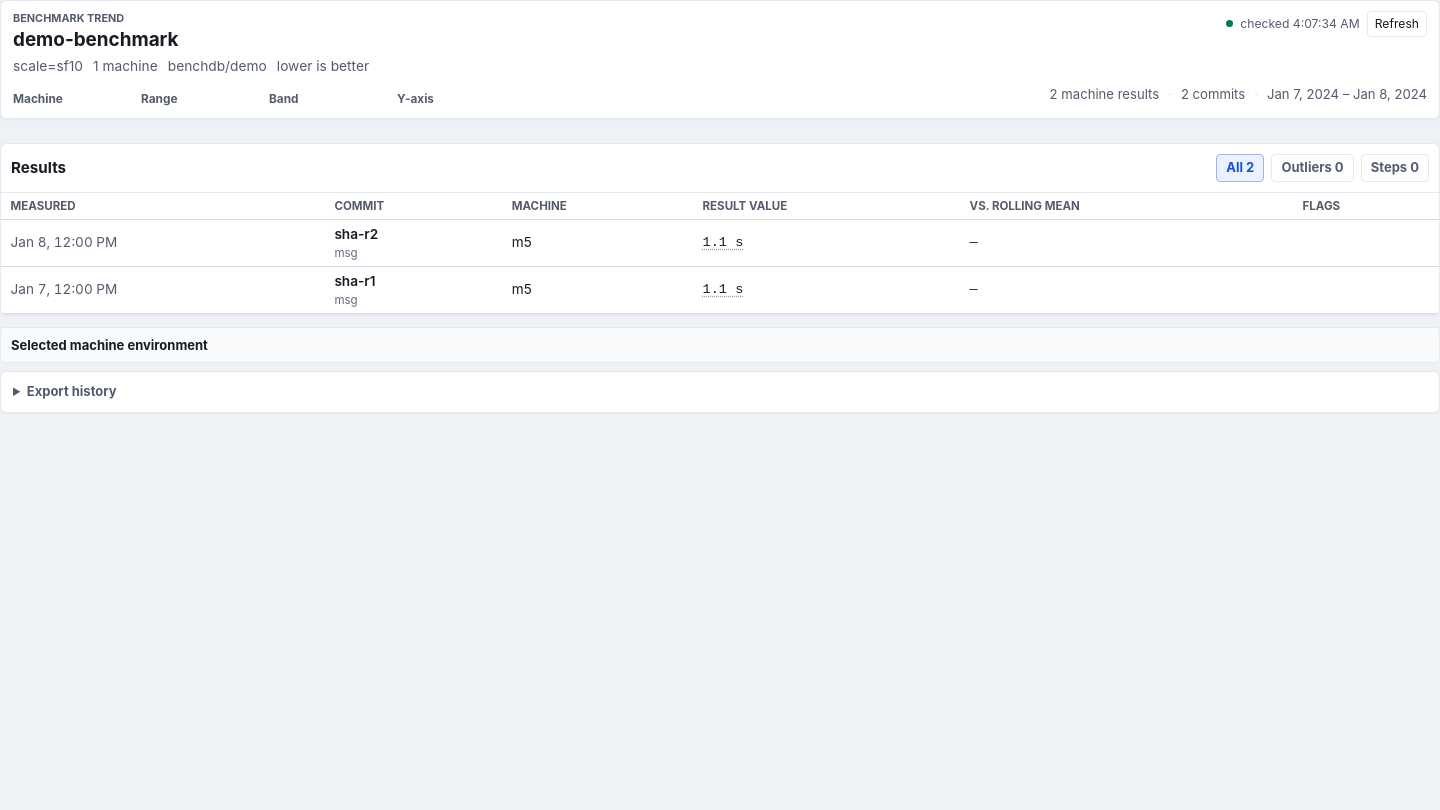
Test: TrendPage › rejects compare picks from different fingerprint segments
Expected: the text "sha-r1" is shown, [334,273,376,289]
Click the text "sha-r1" at (720, 290), box [1,266,1439,314]
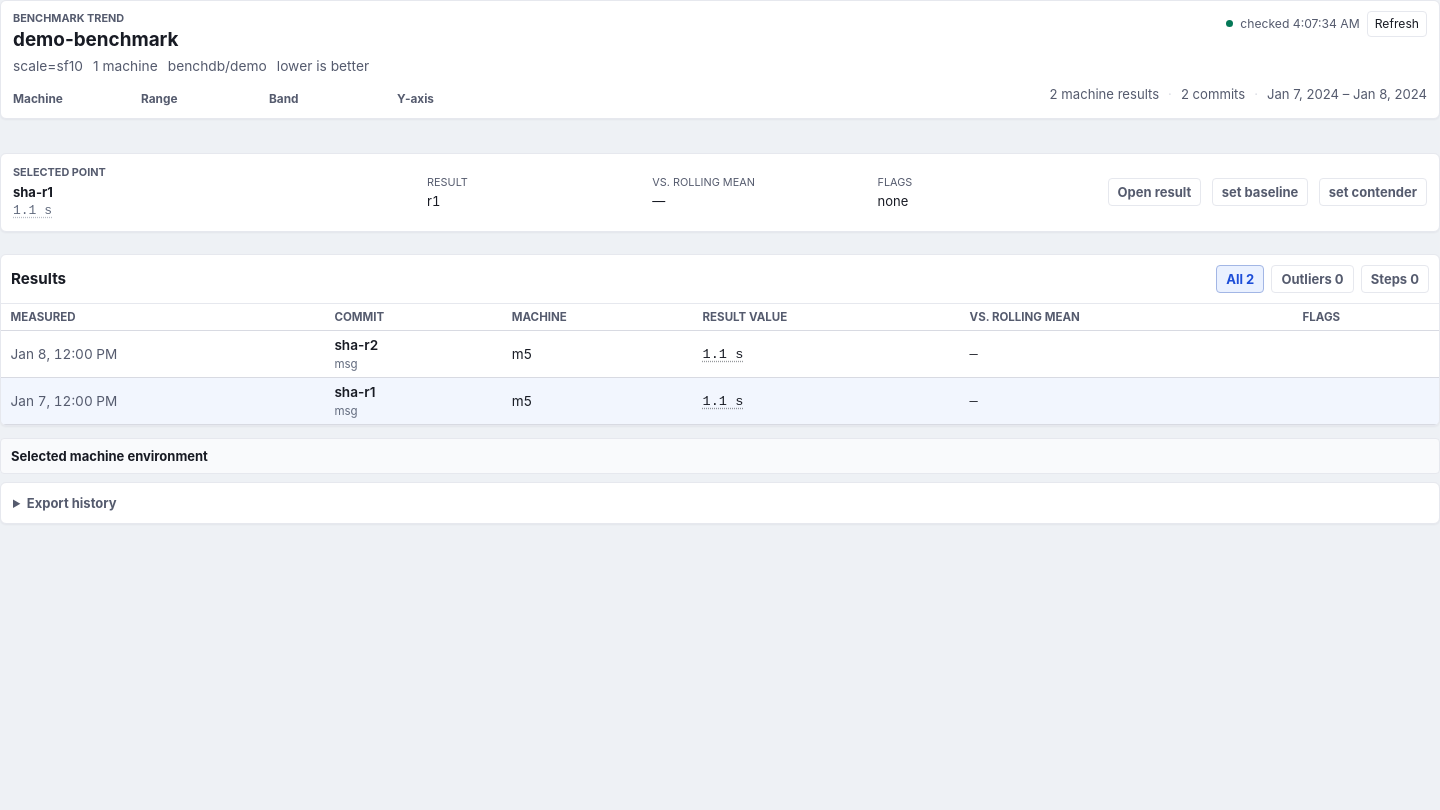
Click the button "set baseline" at (1260, 192), box [1212,178,1308,206]
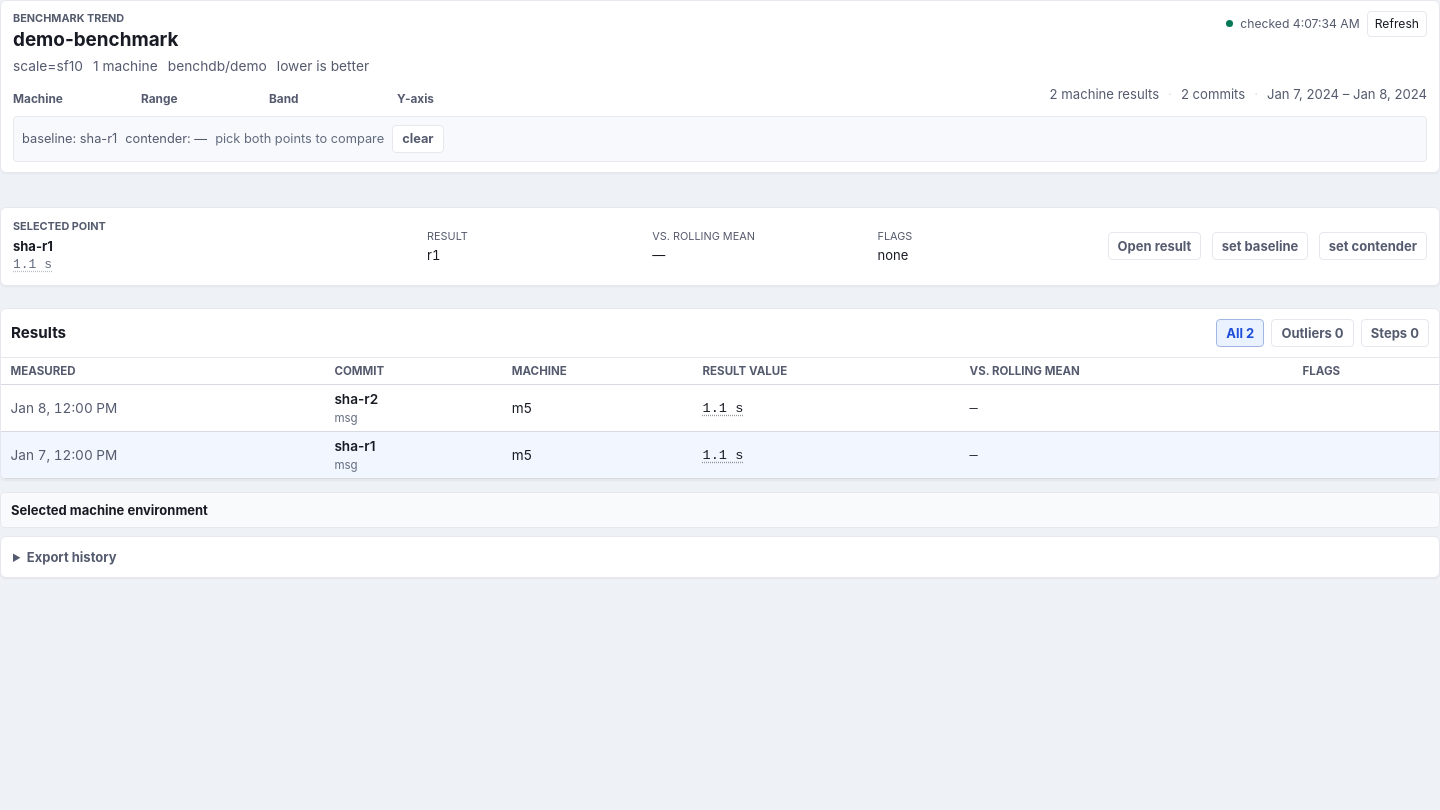
Click the row "sha-r2" at (720, 408), box [1,385,1439,432]
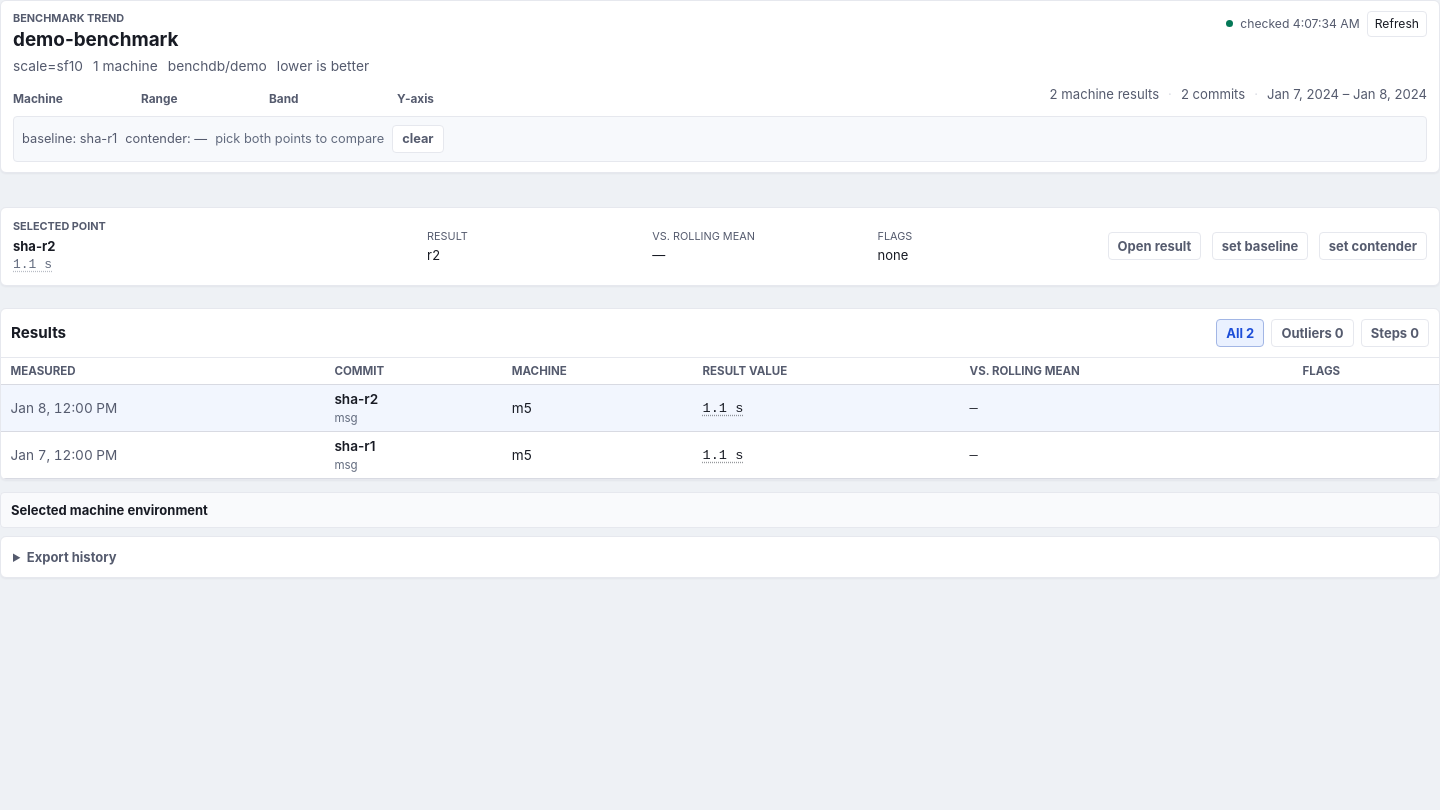
Click the button "set contender" at (1373, 246), box [1319,232,1427,260]
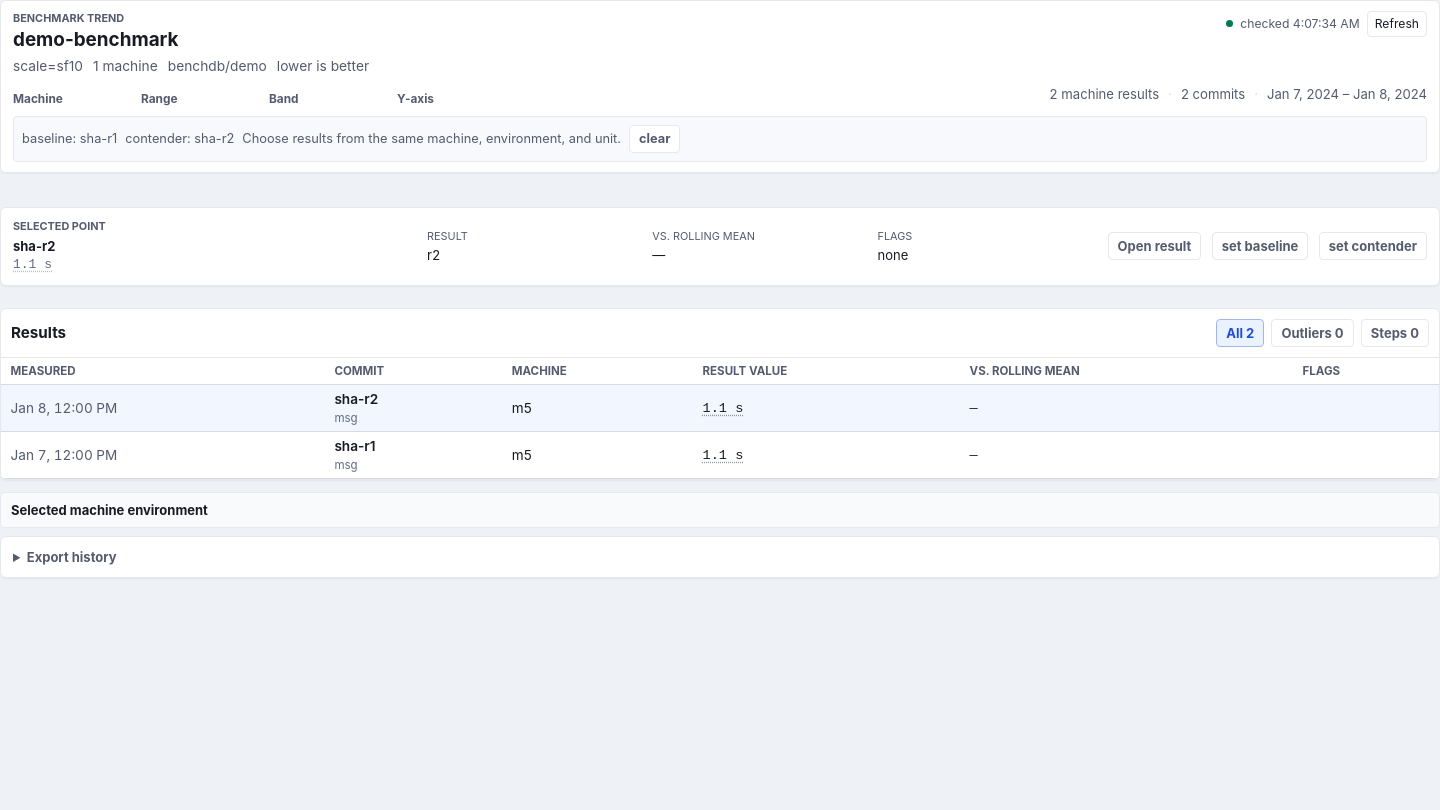
Expected: the text "compare" is gone
Expected: the message shows "same machine, environment, and unit", [242,130,621,146]
